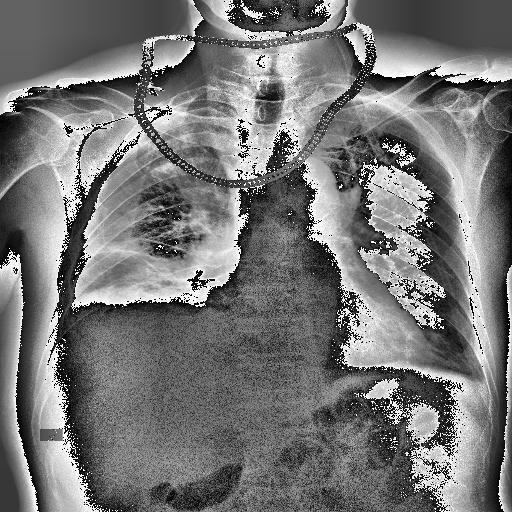0- Aortic enlargement: (266, 153, 348, 230), (275, 155, 342, 226), (272, 156, 341, 222)
10- Pleural effusion: (56, 278, 220, 360), (59, 294, 212, 370), (442, 356, 486, 396), (466, 358, 492, 396)
11- Pleural thickening: (356, 94, 416, 130), (442, 356, 486, 396), (466, 358, 492, 396)
13- Pulmonary fibrosis: (136, 127, 220, 238), (90, 240, 216, 298), (138, 104, 221, 182), (80, 240, 192, 274), (96, 242, 176, 266)
3- Cardiomegaly: (198, 282, 431, 366)
4- Consolidation: (140, 102, 234, 244), (62, 243, 232, 306), (90, 240, 216, 298), (138, 104, 221, 182)
7- Lung Opacity: (140, 102, 234, 244), (62, 243, 232, 306), (100, 262, 202, 316)
